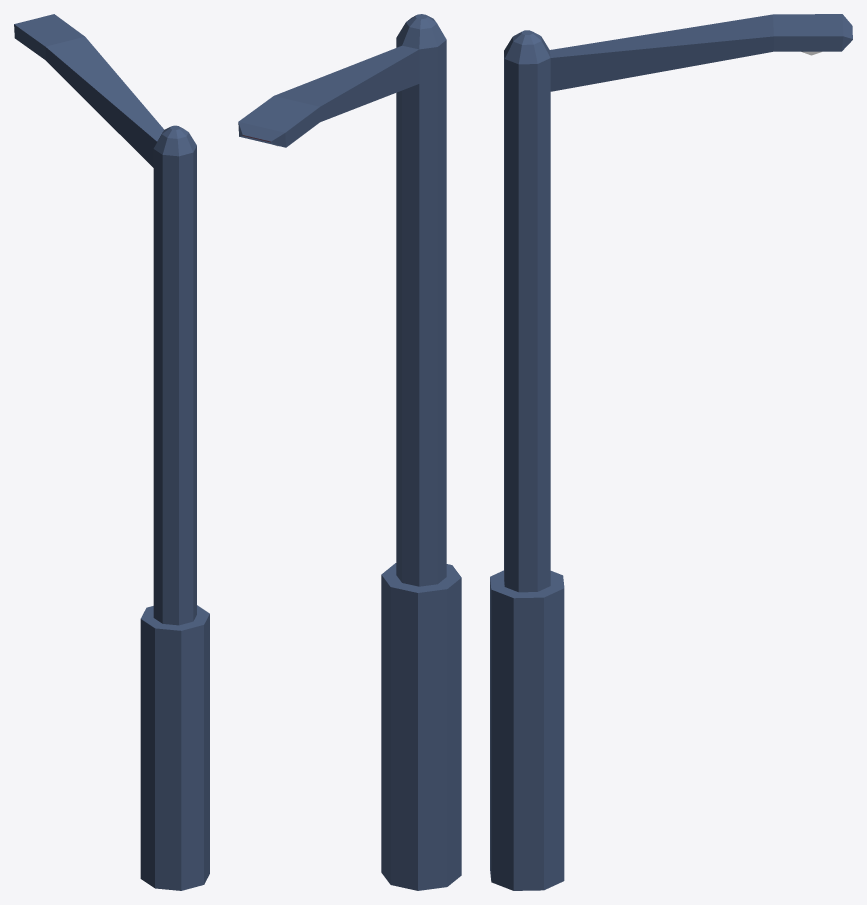
File: Street-light.fbx
The picture shows the model from 3 angles, left to right: view 1: azimuth 30°, elevation 25°; view 2: azimuth 150°, elevation 25°; view 3: azimuth 270°, elevation 25°; orthographic projection. The views are drawn at different scales.
Parts seen in each view (by area): view 1: Cylinder.001; view 2: Cylinder.001; view 3: Cylinder.001.
Boxes of the visible parts, x1,y1,x2,y2 form: Cylinder.001: [14, 14, 209, 890]; Cylinder.001: [238, 14, 461, 890]; Cylinder.001: [490, 14, 852, 890].
Size of the model in its own units: 63.9 by 805 by 312.
